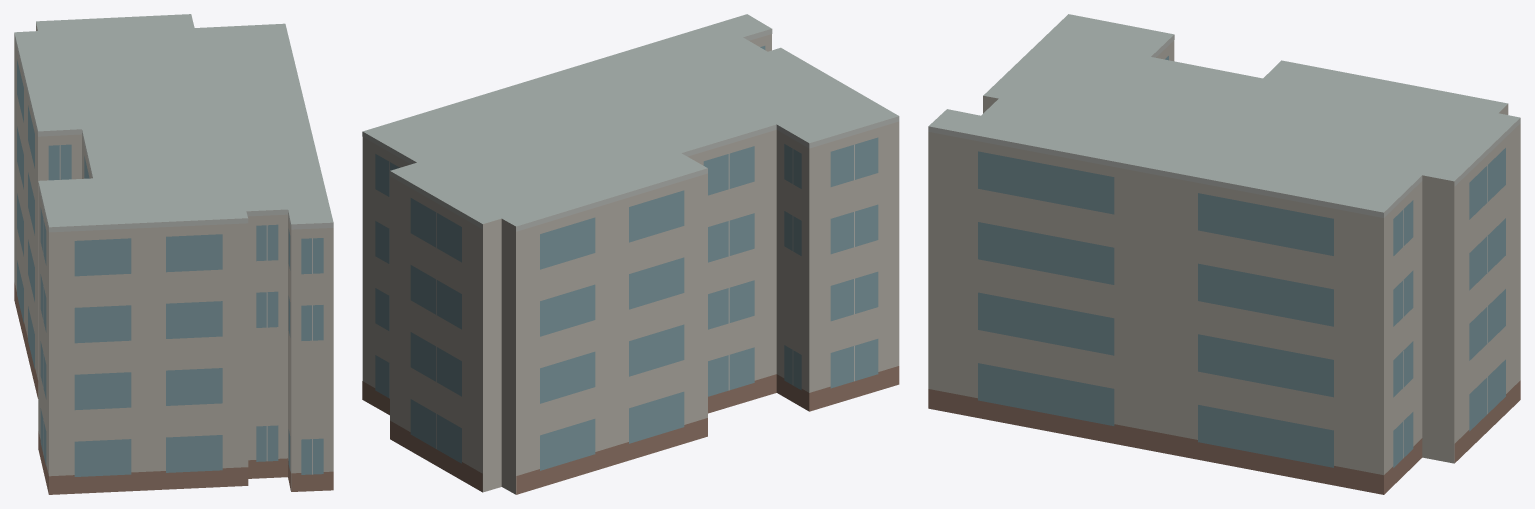
File: survey-upis-32668604.glb
3 renders of one model, left to right at view 1: azimuth 30°, elevation 25°; view 2: azimuth 150°, elevation 25°; view 3: azimuth 270°, elevation 25°, orthographic. The views are drawn at different scales.
Visible parts, largest first — view 1: survey-upis-32668604.tmp; view 2: survey-upis-32668604.tmp; view 3: survey-upis-32668604.tmp.
Boxes of the visible parts, x1,y1,x2,y2 form: survey-upis-32668604.tmp: (14, 14, 333, 494); survey-upis-32668604.tmp: (362, 14, 899, 494); survey-upis-32668604.tmp: (928, 14, 1520, 494).
Bounding box in the file's own units: 18.87 × 12.5 × 23.78.
